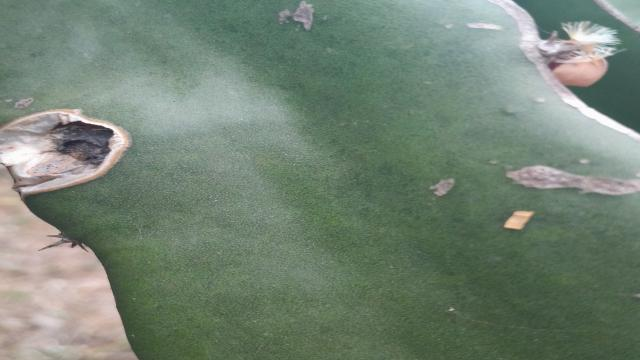stemcanker: (501, 162, 640, 200), (275, 1, 318, 34), (428, 174, 459, 201), (460, 18, 506, 33), (13, 94, 37, 109)
